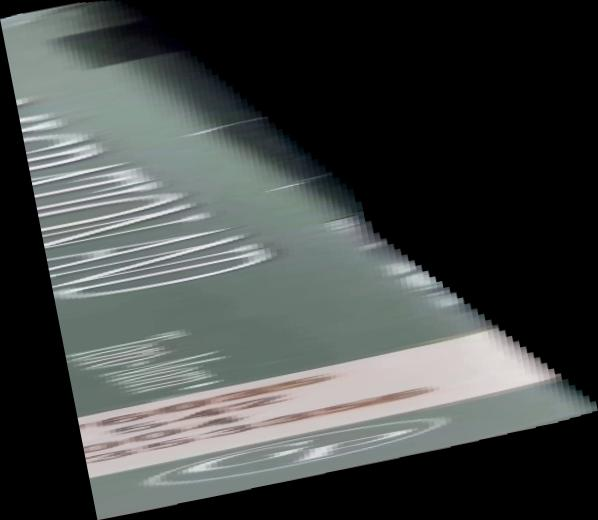book: (1, 1, 598, 520)
